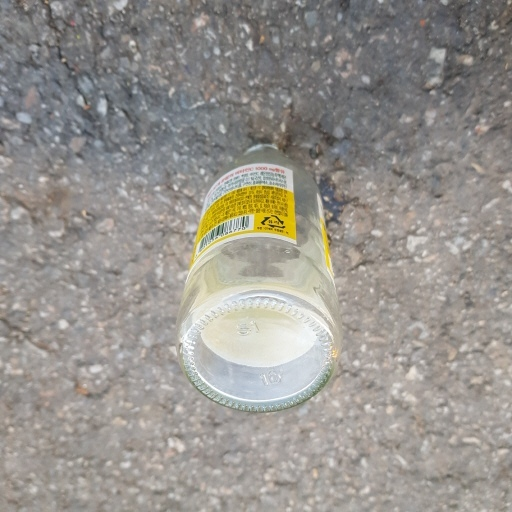Glass_4: (168, 140, 350, 416)
